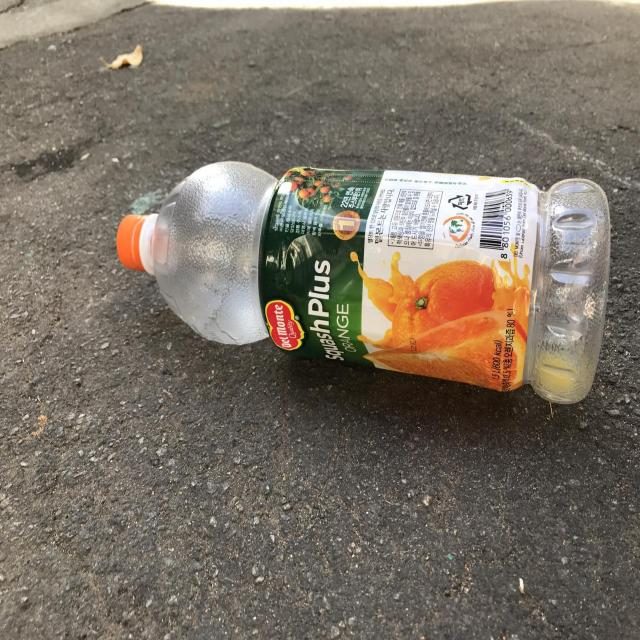plastic: (116, 161, 611, 403)
